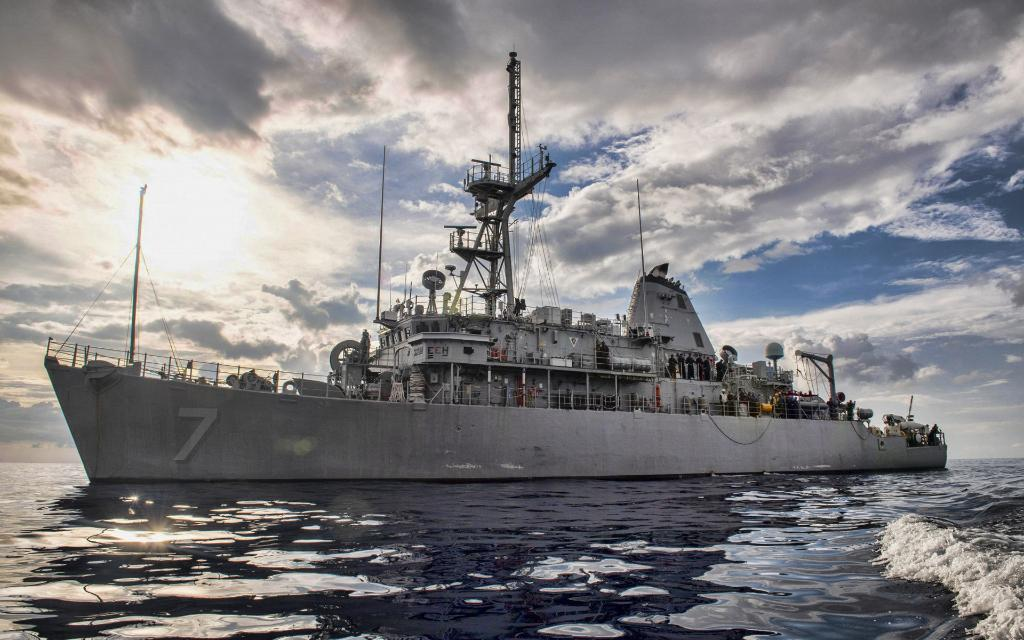Warship: (38, 47, 952, 480)
